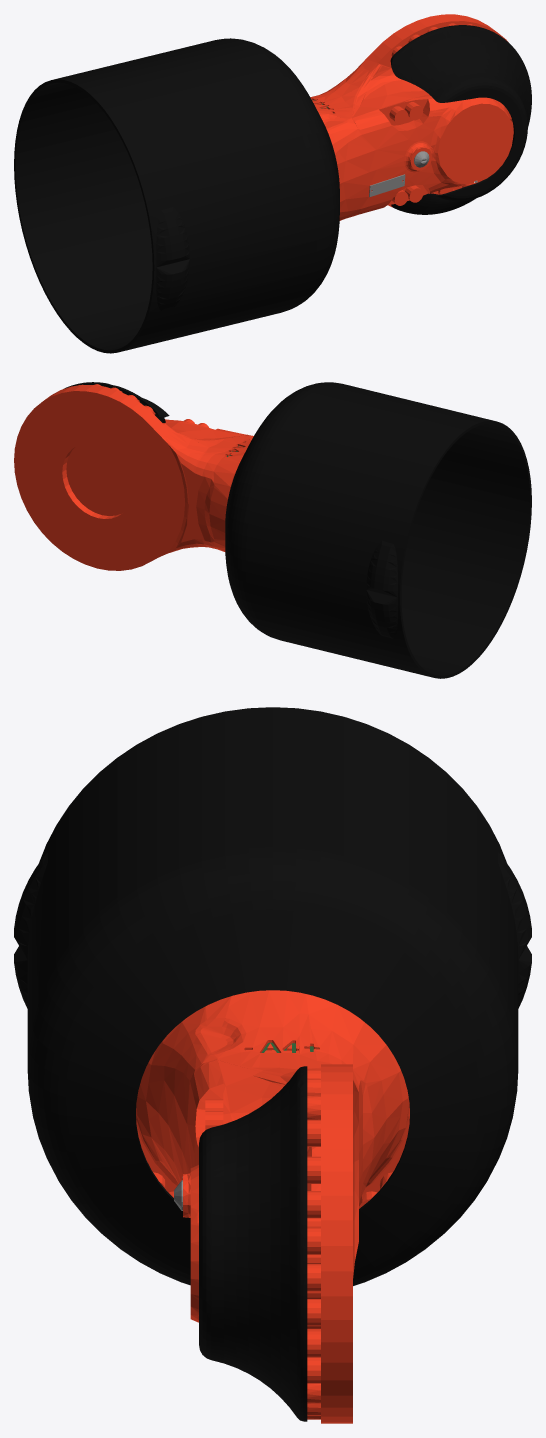
3 renders of one model, top to bottom at view 1: azimuth 30°, elevation 25°; view 2: azimuth 150°, elevation 25°; view 3: azimuth 270°, elevation 25°, orthographic. The views are drawn at different scales.
Visible parts, largest first — view 1: link_4; view 2: link_4; view 3: link_4.
Part boxes in pixels (x1,y1,x2,y2): link_4: (14,14,531,353); link_4: (14,382,531,678); link_4: (14,707,531,1423).
Size of the model in its own units: 0.6061 by 0.3399 by 0.322.
